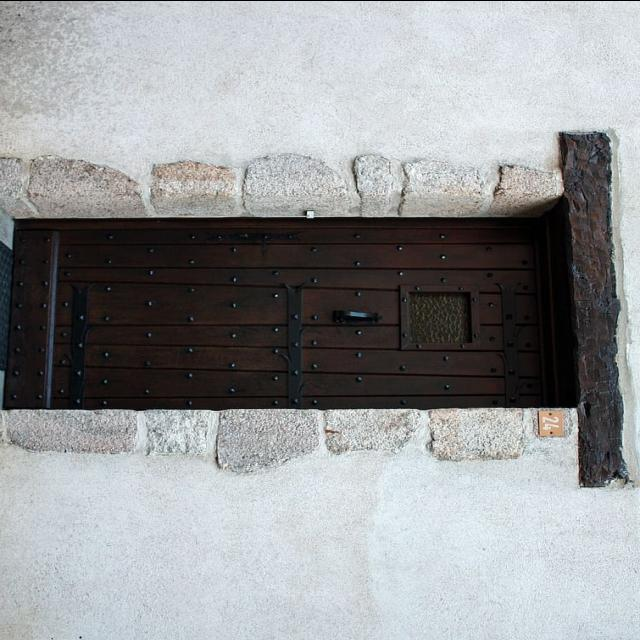close: (22, 221, 546, 414)
